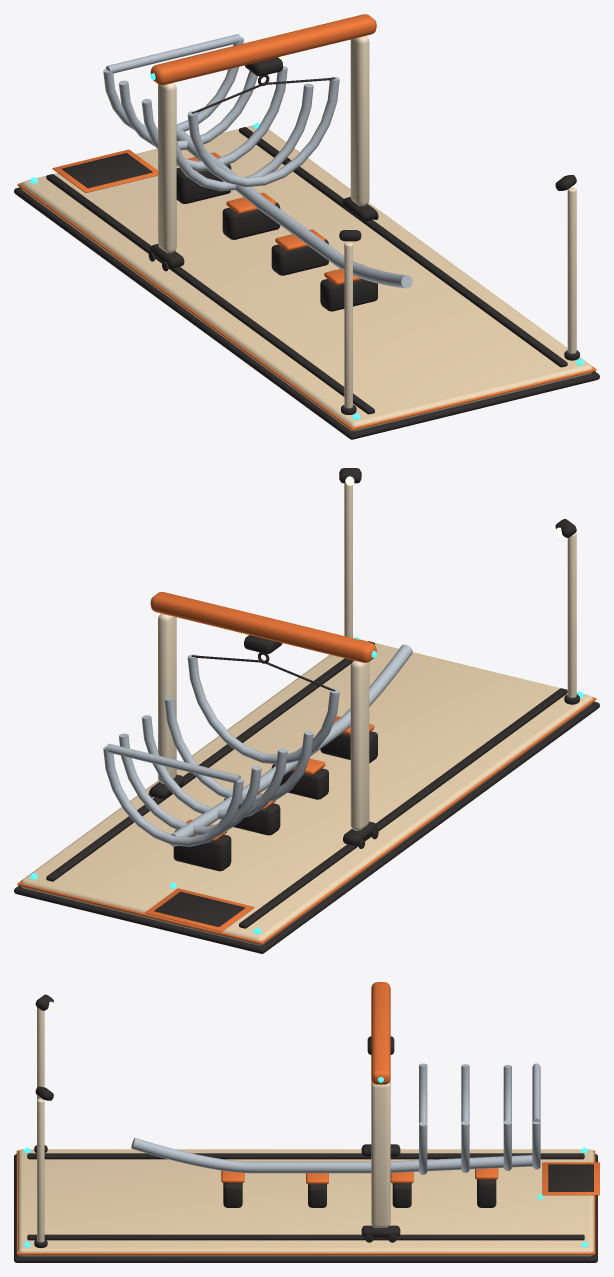
The model's file is dock-1.glb.
The picture shows the model from 3 angles, top to bottom: view 1: azimuth 30°, elevation 25°; view 2: azimuth 150°, elevation 25°; view 3: azimuth 270°, elevation 25°; orthographic projection. The views are drawn at different scales.
Parts seen in each view (by area): view 1: Cube.001, Cube, pipe, Cube.016, Cube.002; view 2: Cube.001, Cube, pipe, Cube.016, Cube.002; view 3: Cube.001, Cube, pipe, Cube.002, Cube.016.
Boxes of the visible parts, x1=… form: Cube.001: x1=21, y1=125, x2=592, y2=431; Cube: x1=14, y1=57, x2=599, y2=439; pipe: x1=103, y1=34, x2=412, y2=288; Cube.016: x1=158, y1=36, x2=576, y2=408; Cube.002: x1=17, y1=14, x2=596, y2=430; Cube.001: x1=21, y1=639, x2=592, y2=945; Cube: x1=14, y1=468, x2=599, y2=953; pipe: x1=103, y1=644, x2=412, y2=846; Cube.016: x1=158, y1=483, x2=576, y2=830; Cube.002: x1=17, y1=592, x2=596, y2=944; Cube.001: x1=18, y1=1149, x2=593, y2=1256; Cube: x1=14, y1=994, x2=597, y2=1262; pipe: x1=131, y1=1063, x2=540, y2=1174; Cube.002: x1=16, y1=982, x2=599, y2=1254; Cube.016: x1=37, y1=1007, x2=390, y2=1242.
Size of the model in its own units: 1.3 by 1.06 by 3.05.
